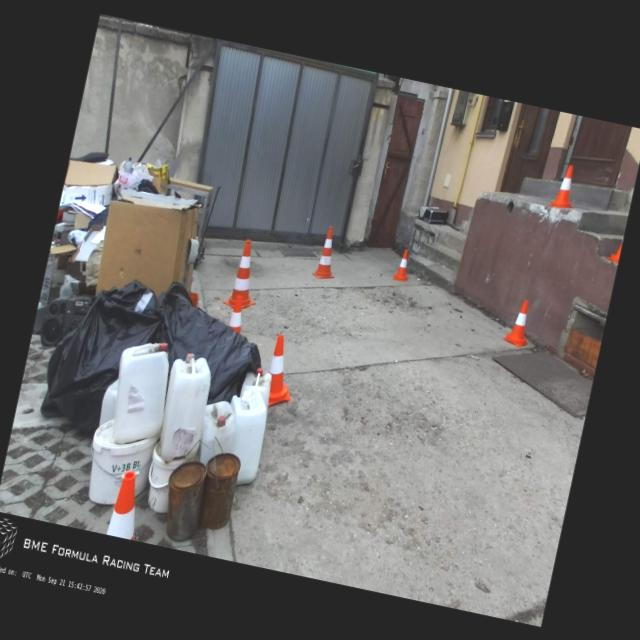large_orange_cone: (221, 236, 267, 312), (105, 468, 148, 540), (311, 224, 344, 282), (227, 294, 248, 334)
orange_cone: (259, 332, 303, 410), (502, 296, 536, 348), (546, 162, 582, 210), (392, 248, 413, 281)
